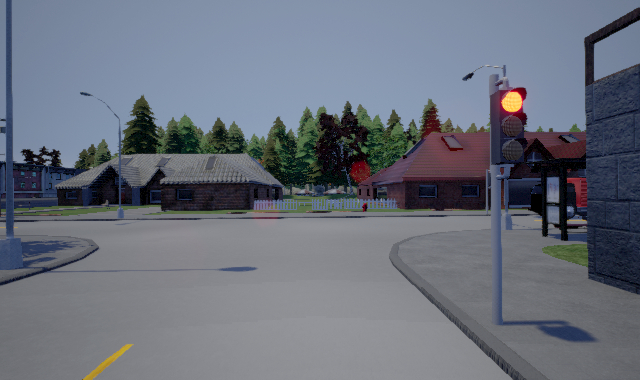traffic_light: (490, 86, 527, 164)
